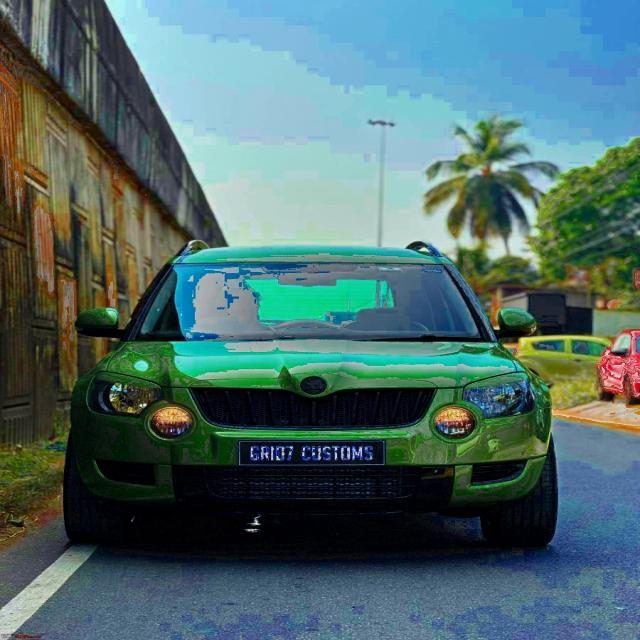green: (56, 234, 561, 554)
